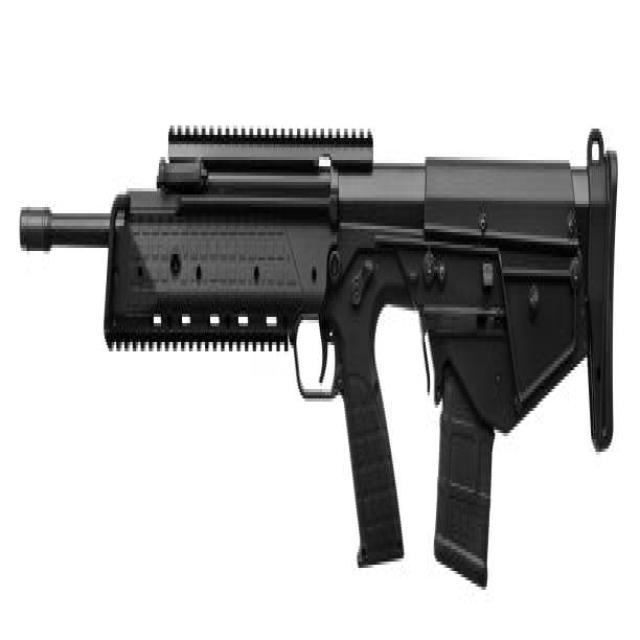rifle: (18, 105, 623, 606)
